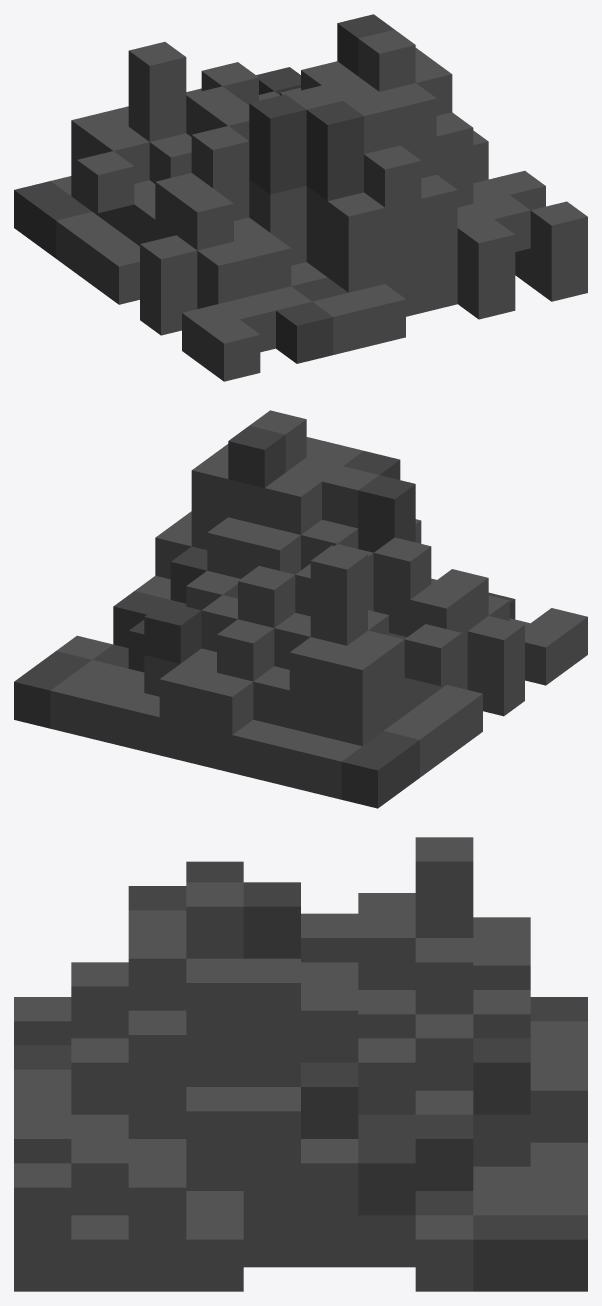
Rendered from Stein_Mitte-01.obj.
The picture shows the model from 3 angles, top to bottom: view 1: azimuth 30°, elevation 25°; view 2: azimuth 150°, elevation 25°; view 3: azimuth 270°, elevation 25°; orthographic projection. The views are drawn at different scales.
Size of the model in its own units: 1 by 0.6 by 1.
1 material, 1 textured.
